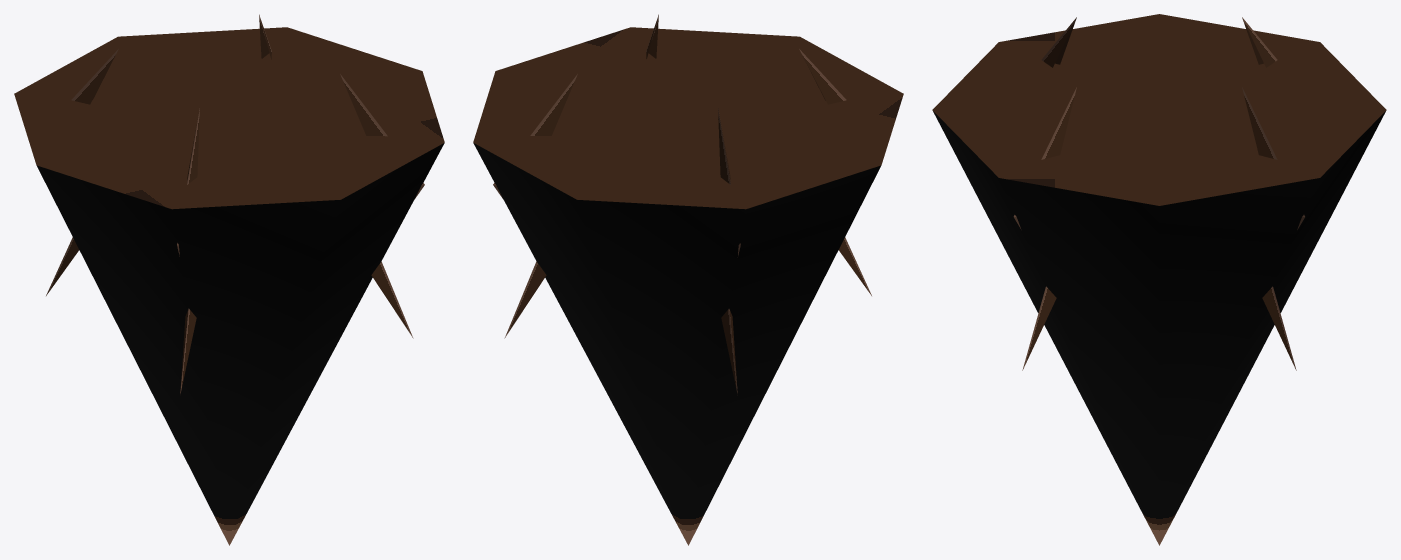
The picture shows the model from 3 angles, left to right: view 1: azimuth 30°, elevation 25°; view 2: azimuth 150°, elevation 25°; view 3: azimuth 270°, elevation 25°; orthographic projection.
Visible parts, largest first — view 1: 3603kg_14_ta0; view 2: 3603kg_14_ta0; view 3: 3603kg_14_ta0.
Part boxes in pixels (box(x1,y1,x2,y2)): 3603kg_14_ta0: box(14, 14, 444, 545); 3603kg_14_ta0: box(473, 14, 903, 545); 3603kg_14_ta0: box(932, 14, 1386, 545).
Bounding box in the file's own units: 2 × 2.41 × 2.
Materials: 1 (1 with a texture image).
